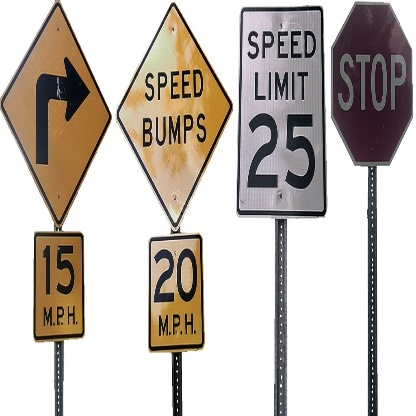limit1: (239, 5, 327, 218)
stop: (330, 1, 414, 166)
